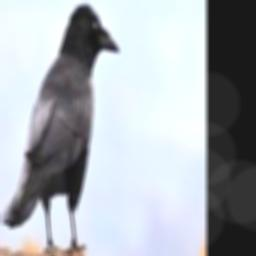Crow: (1, 1, 120, 253)
